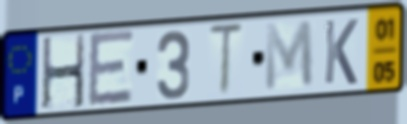3: (154, 28, 192, 101)
E: (86, 28, 136, 111)
H: (40, 32, 87, 113)
K: (322, 17, 360, 87)
M: (263, 18, 316, 95)
T: (206, 21, 247, 100)
